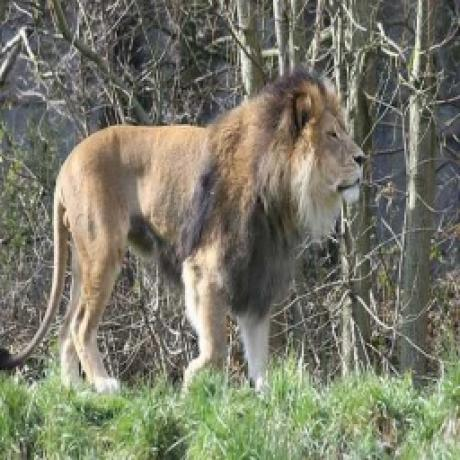Lion: (0, 69, 369, 397)
